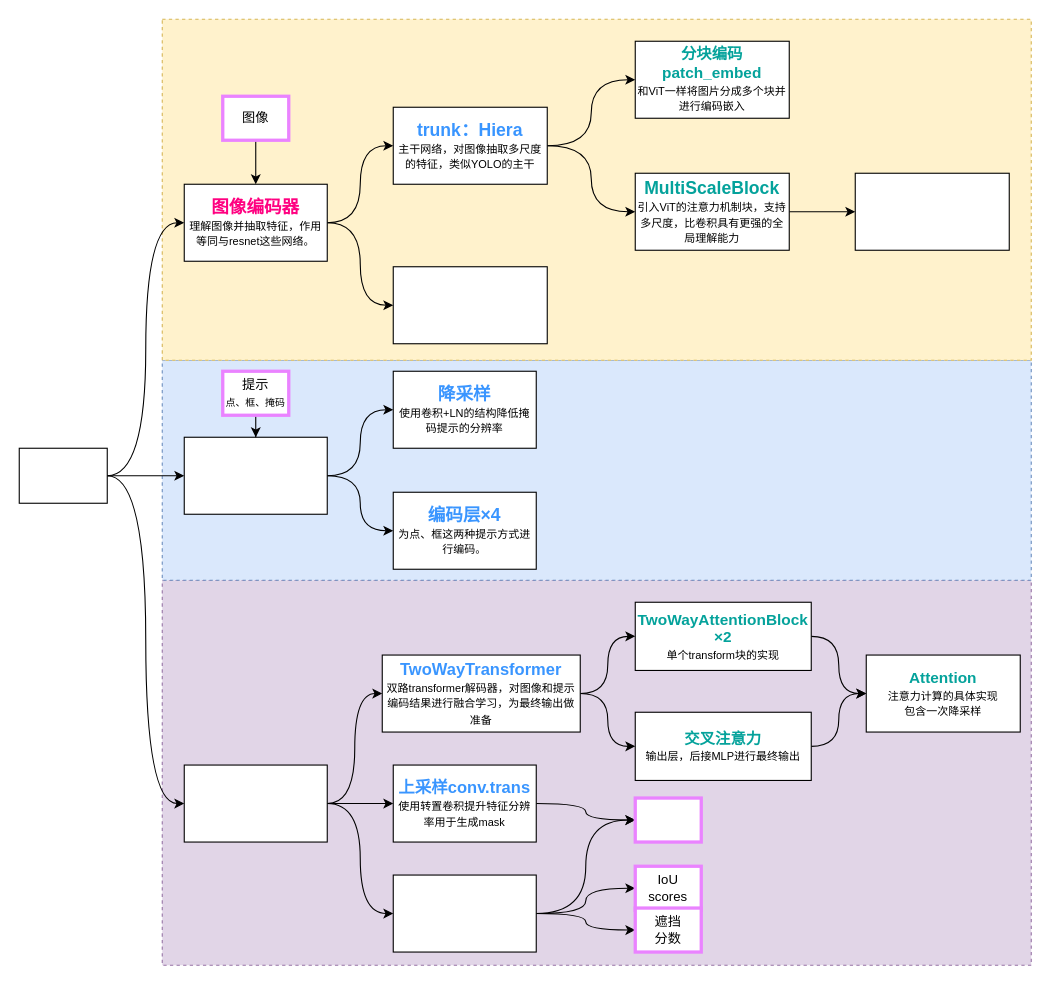
The diagram is 1051 pixels wide and 985 high, and some of its shapes have lost their labels. Each missing label, with the centre of its shape:
MLP 配合上采样输出掩码， 解耦输出不同的分数: the point at 464,913
MultiScaleAttention 注意力计算的具体实现: the point at 931,211
neck：FpnNeck 使用卷积对trunk的特征进行进一步学习得到最终图像编码，等同YOLO的neck: the point at 469,305
SAM2: the point at 62,475
掩码 masks: the point at 667,819
掩码解码器 结合图像和提示（可选）完成分割掩码的预测。: the point at 255,803
提示编码器 为多种形式的提示进行编码，为分割目标给予参照。: the point at 255,475
